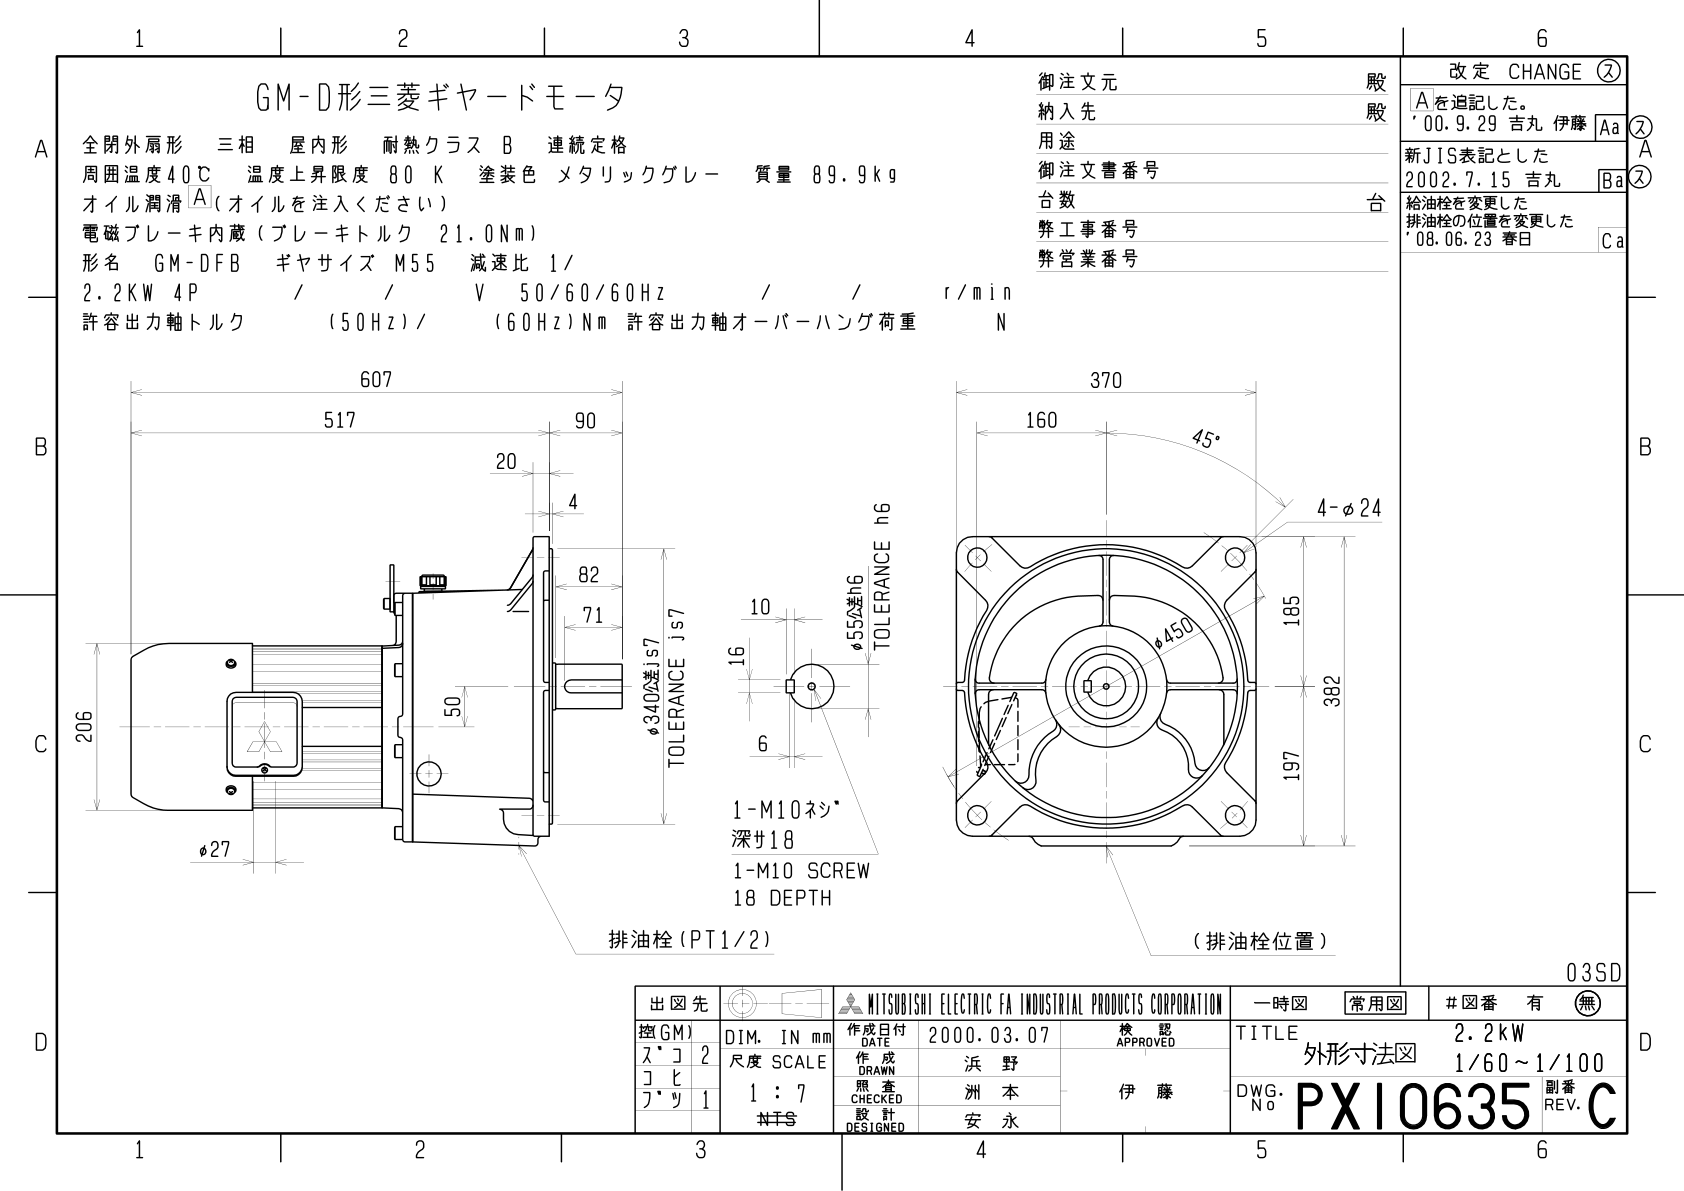GM_D_屋内＿三相_フランジ: (1, 1, 1667, 1176)
